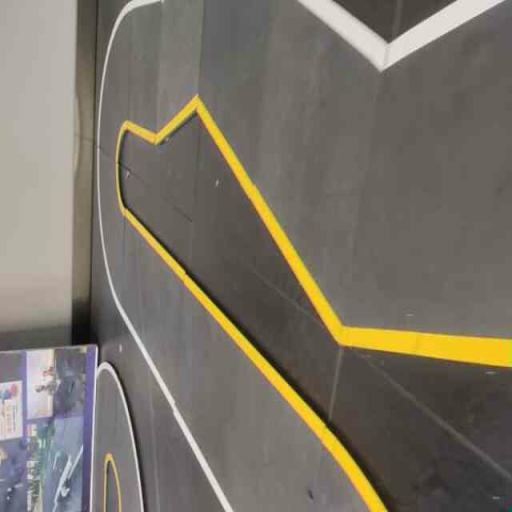crossright: (193, 0, 389, 379)
